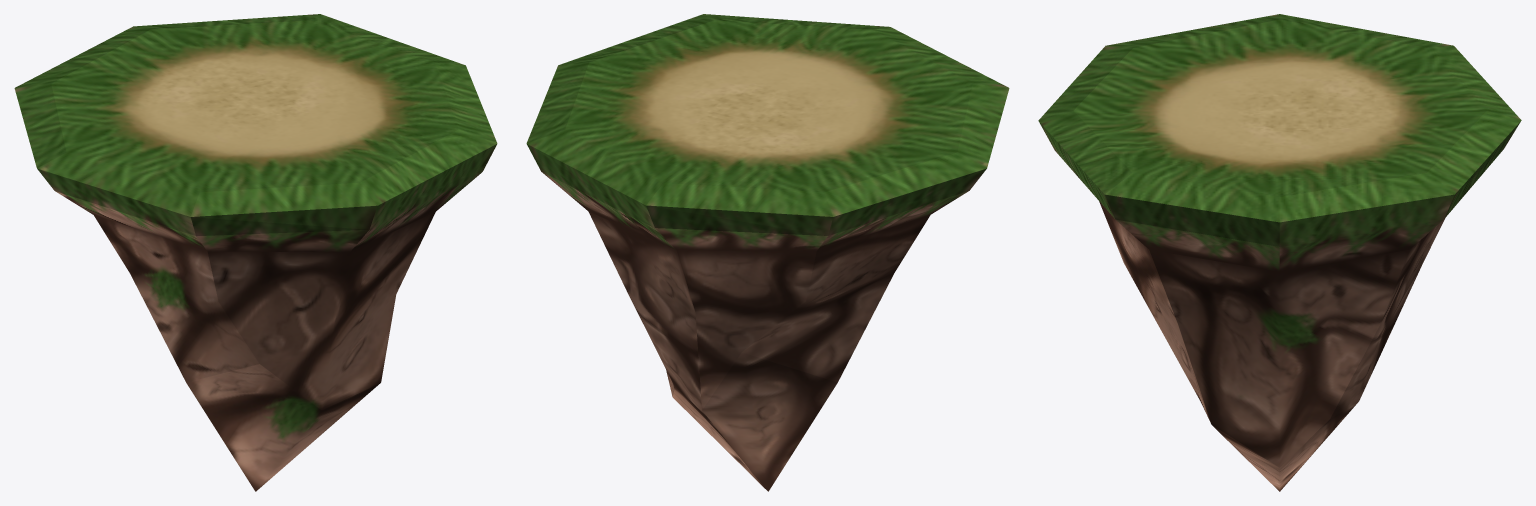
File: bloc_flottant.FBX
3 views of the same model, side by side, from view 1: azimuth 30°, elevation 25°; view 2: azimuth 150°, elevation 25°; view 3: azimuth 270°, elevation 25° (orthographic).
Visible parts, largest first — view 1: Object001; view 2: Object001; view 3: Object001.
Part boxes in pixels (box(x1,y1,x2,y2)): Object001: box(14, 14, 497, 491); Object001: box(526, 14, 1009, 491); Object001: box(1038, 14, 1521, 491).
Bounding box in the file's own units: 126 × 108 × 124.
